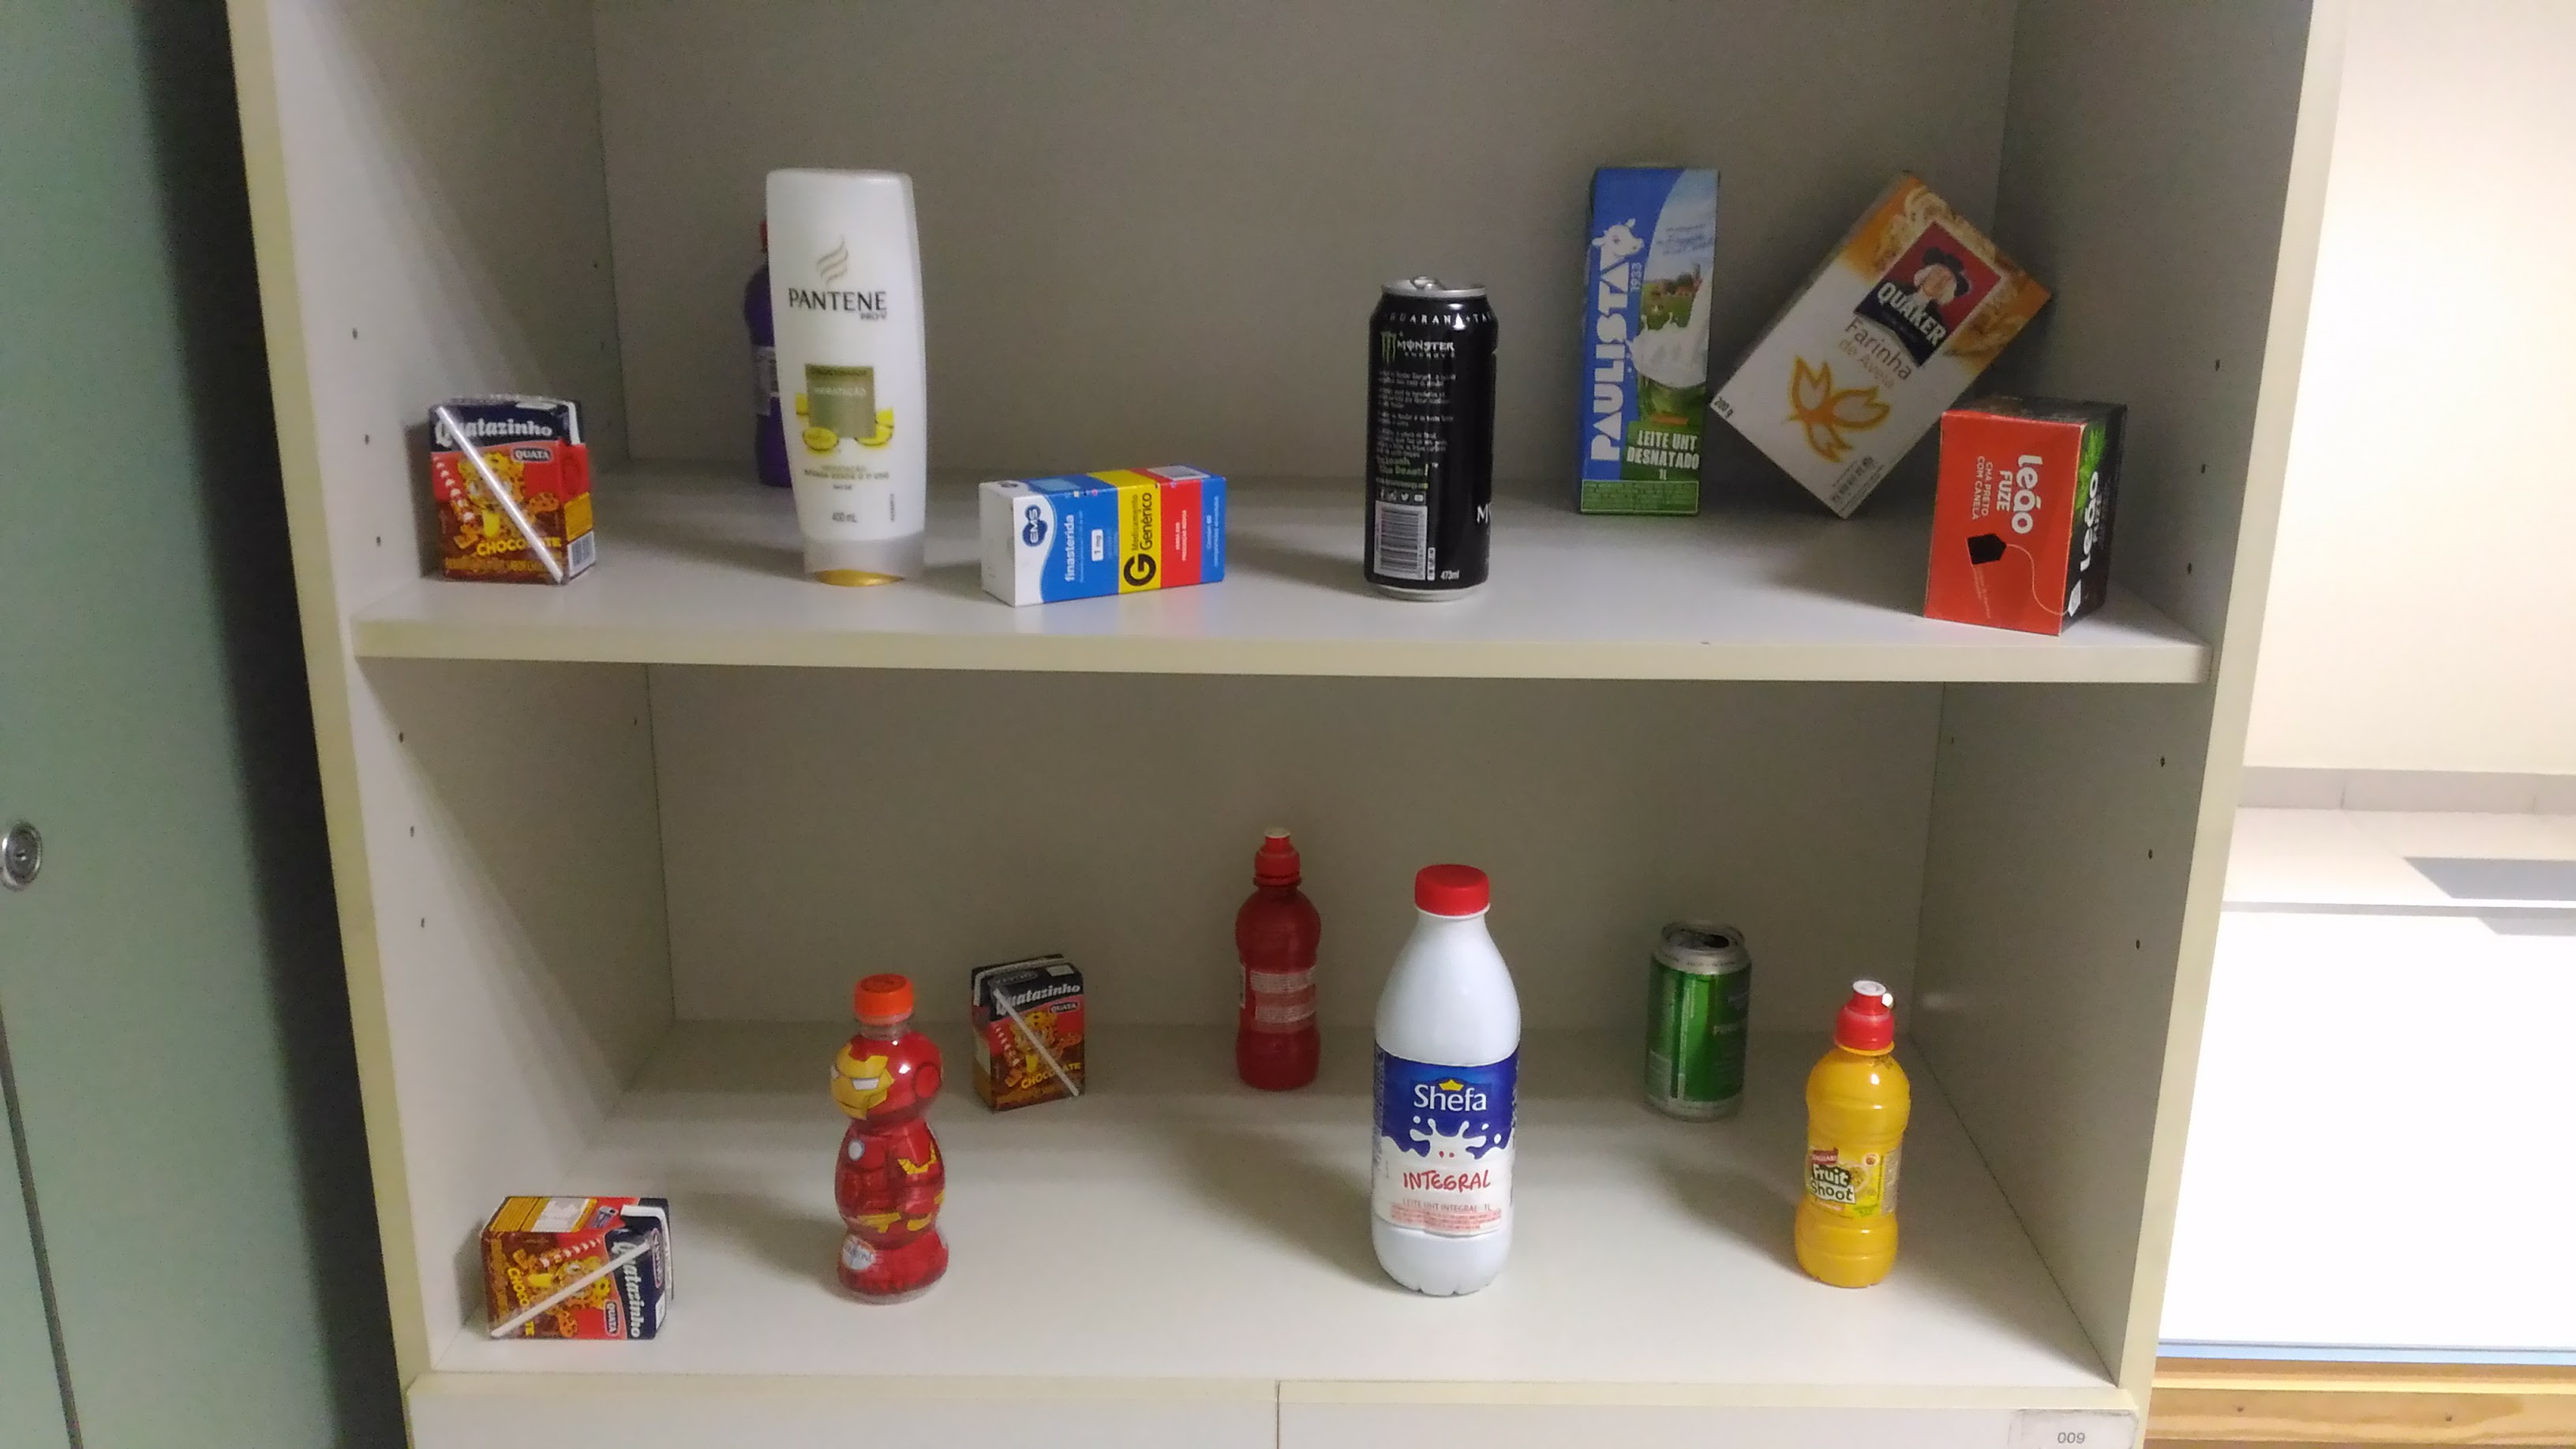cereal: (1694, 159, 2066, 531)
chocolate_milk: (417, 388, 606, 593), (476, 1185, 676, 1346), (964, 949, 1093, 1103)
heineken: (1629, 912, 1762, 1129)
iron_man: (820, 968, 958, 1304)
medicine: (967, 450, 1234, 608)
milk_bottle: (1356, 856, 1525, 1309)
milk_box: (1567, 151, 1728, 531)
monster: (1350, 266, 1511, 613)
red_juice: (1226, 816, 1330, 1098)
shampoo: (758, 159, 949, 596)
tea_box: (1916, 384, 2133, 644)
yellow_juice: (1790, 965, 1919, 1298)
